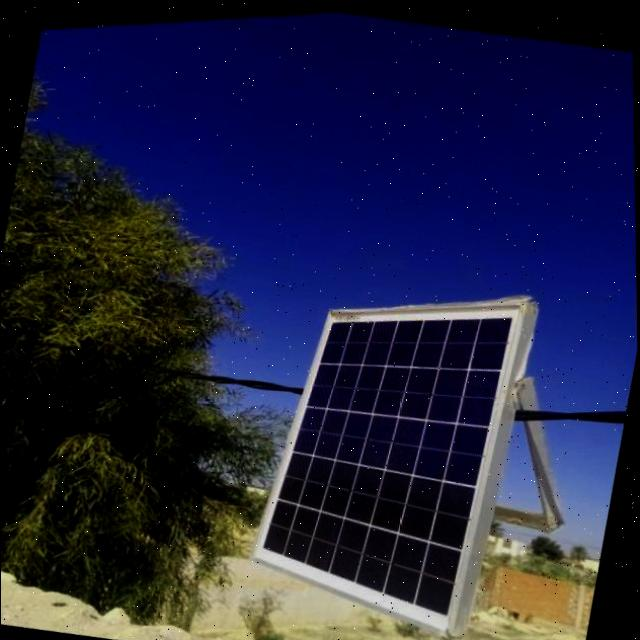Normal Solar Panel: (238, 260, 526, 640)
